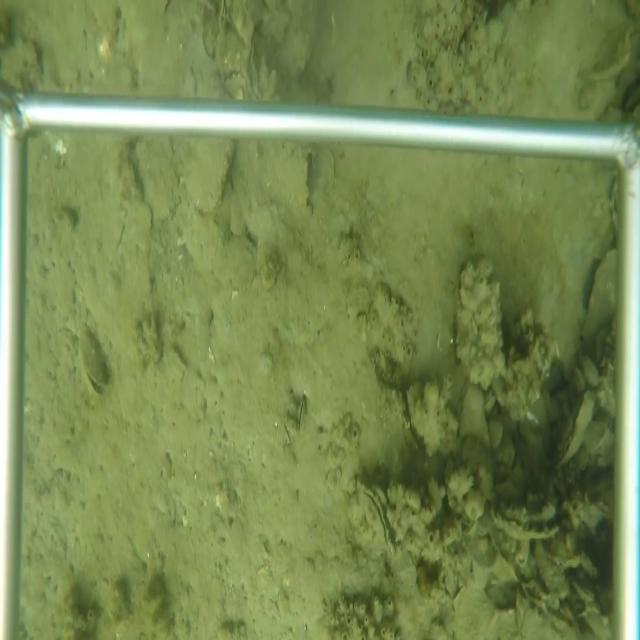Oyster-Closed: (348, 480, 400, 567), (556, 388, 600, 473), (296, 391, 309, 438)
Oyster-Indeterminate: (182, 134, 239, 217), (579, 249, 614, 346)
Oyster-Open: (516, 577, 587, 638), (487, 498, 564, 544), (76, 323, 115, 403)
